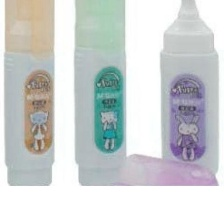correction_fluid: (156, 0, 221, 183), (73, 0, 129, 190), (2, 0, 57, 192)
